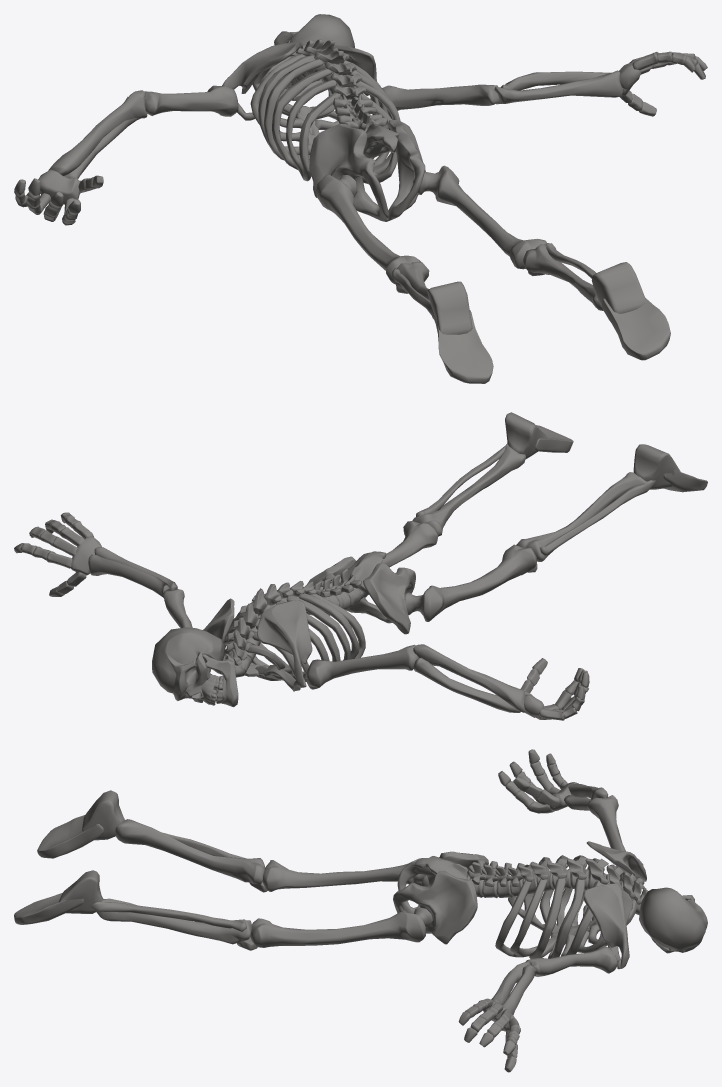
3 views of the same model, one above another, from view 1: azimuth 30°, elevation 25°; view 2: azimuth 150°, elevation 25°; view 3: azimuth 270°, elevation 25° (orthographic). The views are drawn at different scales.
Parts seen in each view (by area): view 1: SM_GoblinSkeleton_07_LOD0; view 2: SM_GoblinSkeleton_07_LOD0; view 3: SM_GoblinSkeleton_07_LOD0.
Boxes of the visible parts, x1,y1,x2,y2 form: SM_GoblinSkeleton_07_LOD0: (14,14,707,383); SM_GoblinSkeleton_07_LOD0: (14,412,707,720); SM_GoblinSkeleton_07_LOD0: (14,749,707,1072).
Size of the model in its own units: 1.92 by 0.3165 by 2.
Materials: 1 (1 with a texture image).
